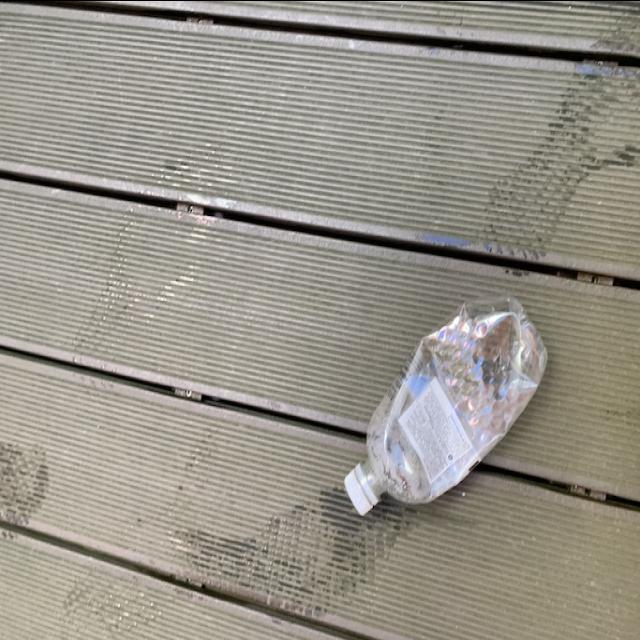PET: (344, 287, 549, 514)
